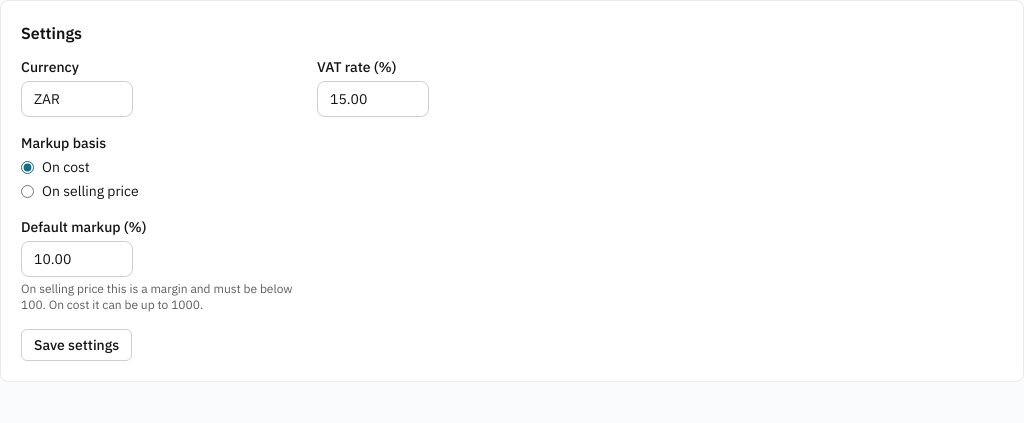
Scenario: SettingsCard › sends nothing when VAT rate (%) is 15.123
Replace the text in the field labelled "VAT rate (%)" with "15.123" at [373, 99], box [317,81,429,117]
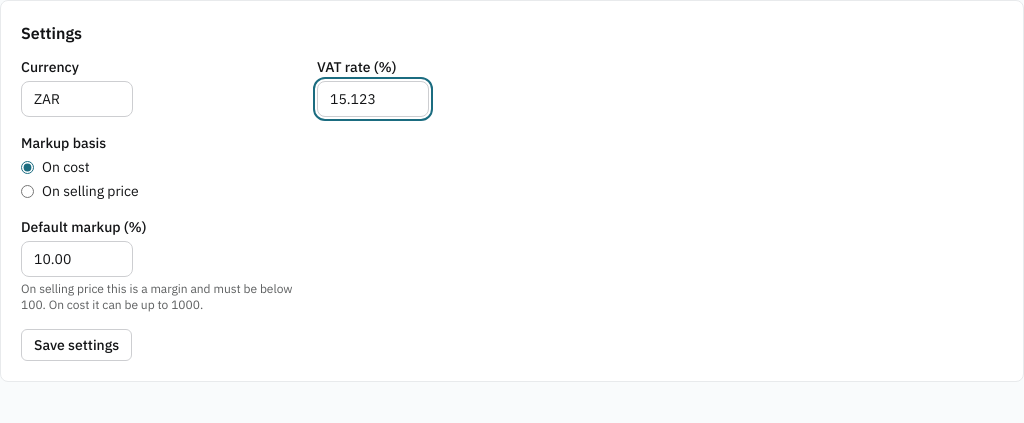
Click the button "Save settings".
click(77, 345)  # box [21,329,132,361]
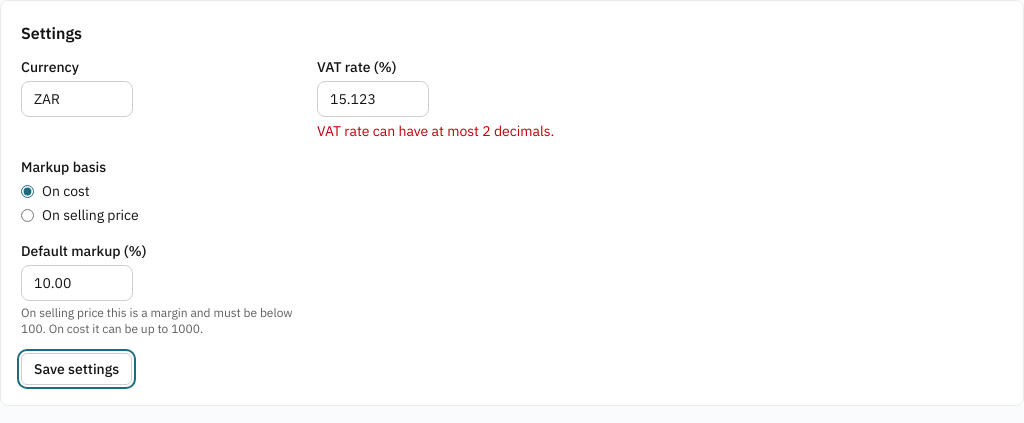
Now the text "VAT rate can have at most 2 decimals." is shown, box [317,122,554,140]
